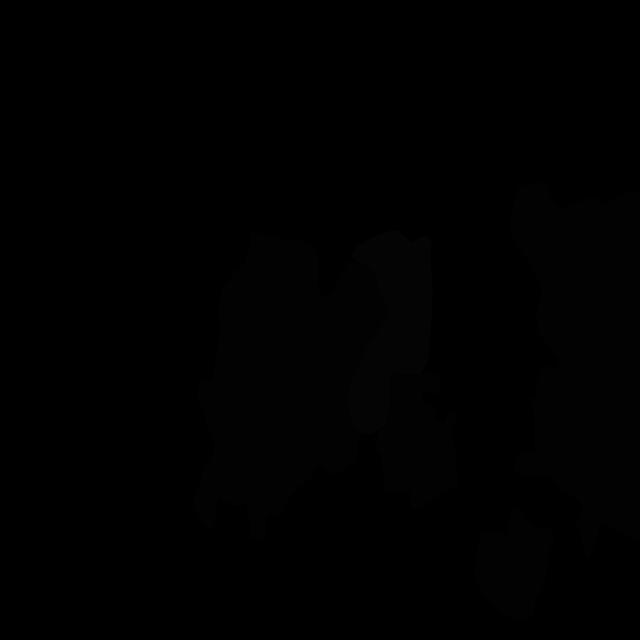cardboard: (192, 230, 388, 539), (510, 182, 640, 400), (515, 359, 640, 559), (375, 370, 458, 508), (474, 509, 554, 620)
soft_plastic: (348, 230, 433, 435)
